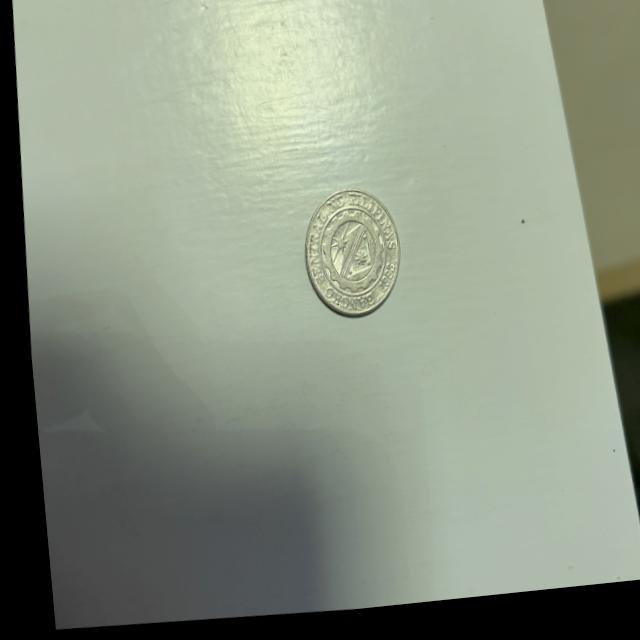1_Old_Back: (309, 201, 387, 311)
